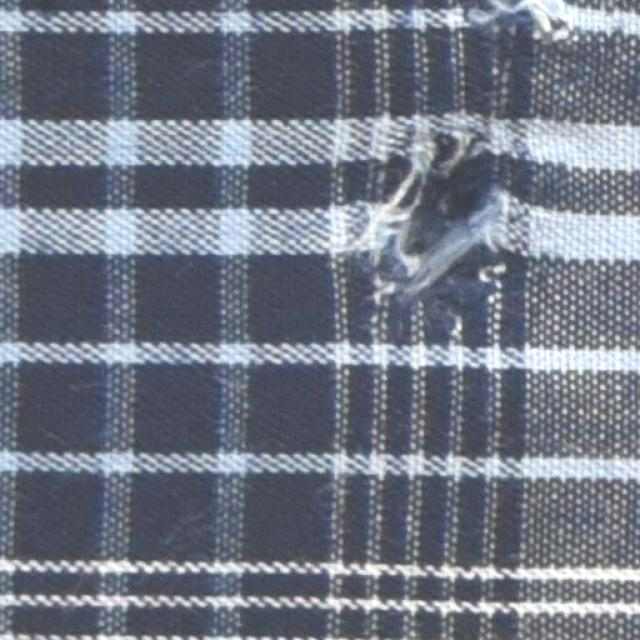Snag: (353, 108, 529, 317)
